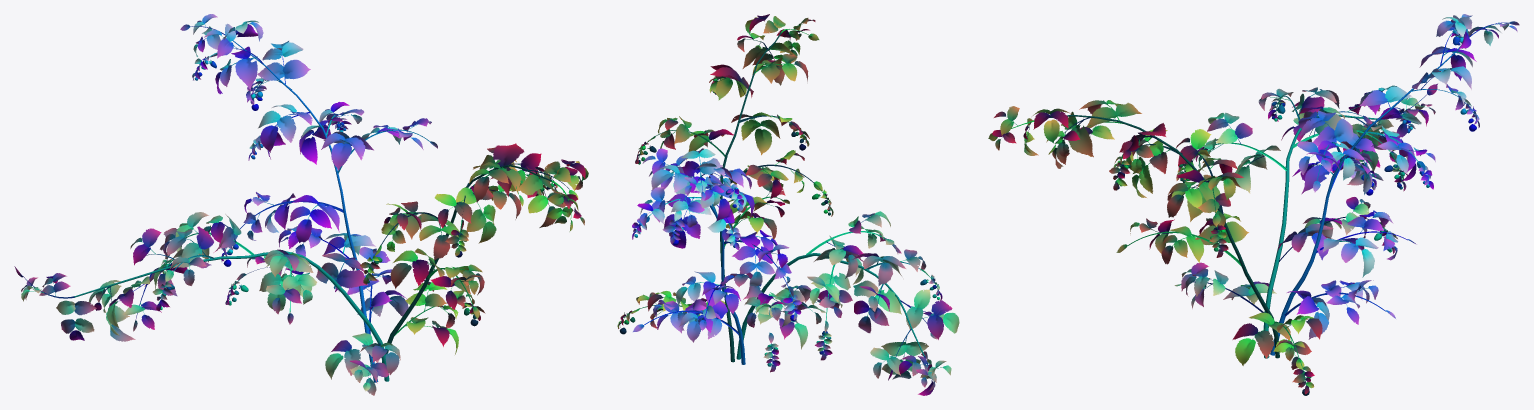
The model's file is Raspberry_wf0oefeja_Raw_wf0oefeja_VarE_LOD0.fbx.
The picture shows the model from 3 angles, left to right: view 1: azimuth 30°, elevation 25°; view 2: azimuth 150°, elevation 25°; view 3: azimuth 270°, elevation 25°; orthographic projection. The views are drawn at different scales.
Visible parts, largest first — view 1: _f4lr_VarE_High; view 2: _f4lr_VarE_High; view 3: _f4lr_VarE_High.
Part boxes in pixels (x1,y1,x2,y2): _f4lr_VarE_High: (14, 14, 588, 395); _f4lr_VarE_High: (617, 14, 959, 395); _f4lr_VarE_High: (988, 14, 1519, 395).
Size of the model in its own units: 115 by 77.68 by 119.
